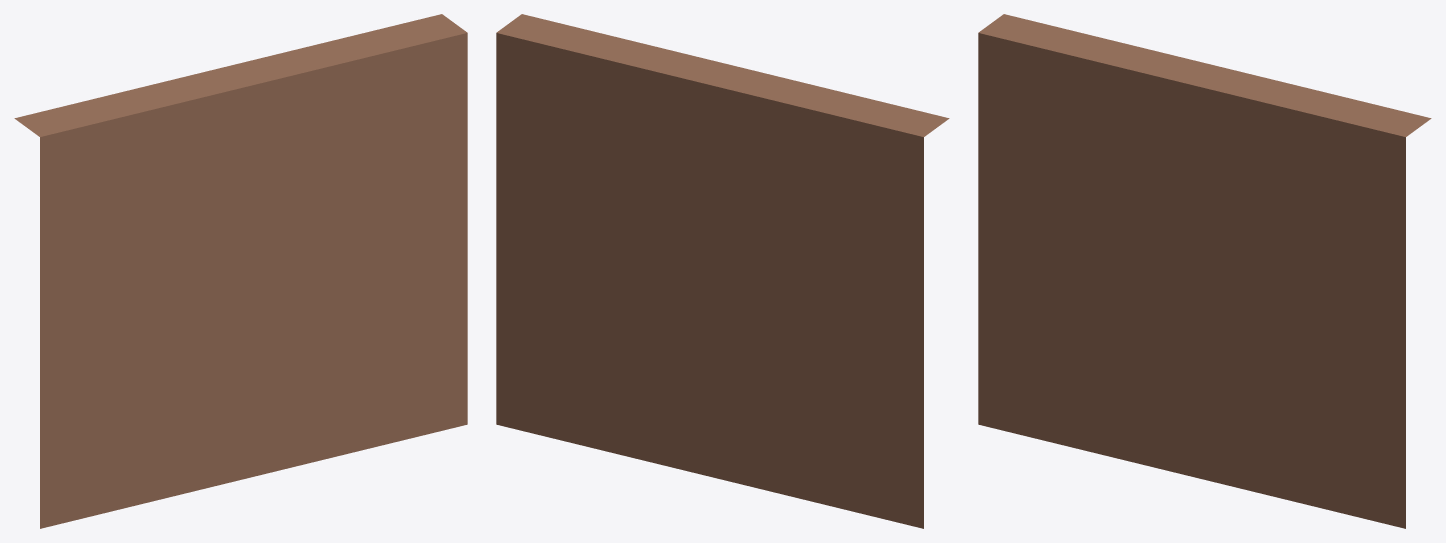
Rendered from dec_house_brick_blind.glb.
3 views of the same model, side by side, from view 1: azimuth 30°, elevation 25°; view 2: azimuth 150°, elevation 25°; view 3: azimuth 330°, elevation 25° (orthographic).
Parts seen in each view (by area): view 1: dec_house_brick_blind_mesh; view 2: dec_house_brick_blind_mesh; view 3: dec_house_brick_blind_mesh.
Part boxes in pixels (<box>): dec_house_brick_blind_mesh: <box>14,14,467,528</box>; dec_house_brick_blind_mesh: <box>496,14,949,528</box>; dec_house_brick_blind_mesh: <box>978,14,1431,528</box>.
Size of the model in its own units: 0.48 by 0.42 by 0.05.
1 material, 1 textured.
